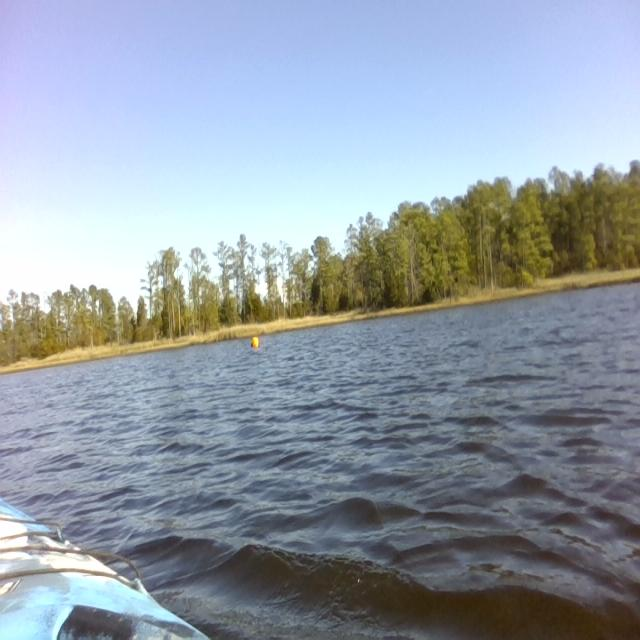Buoy: (245, 328, 268, 353)
